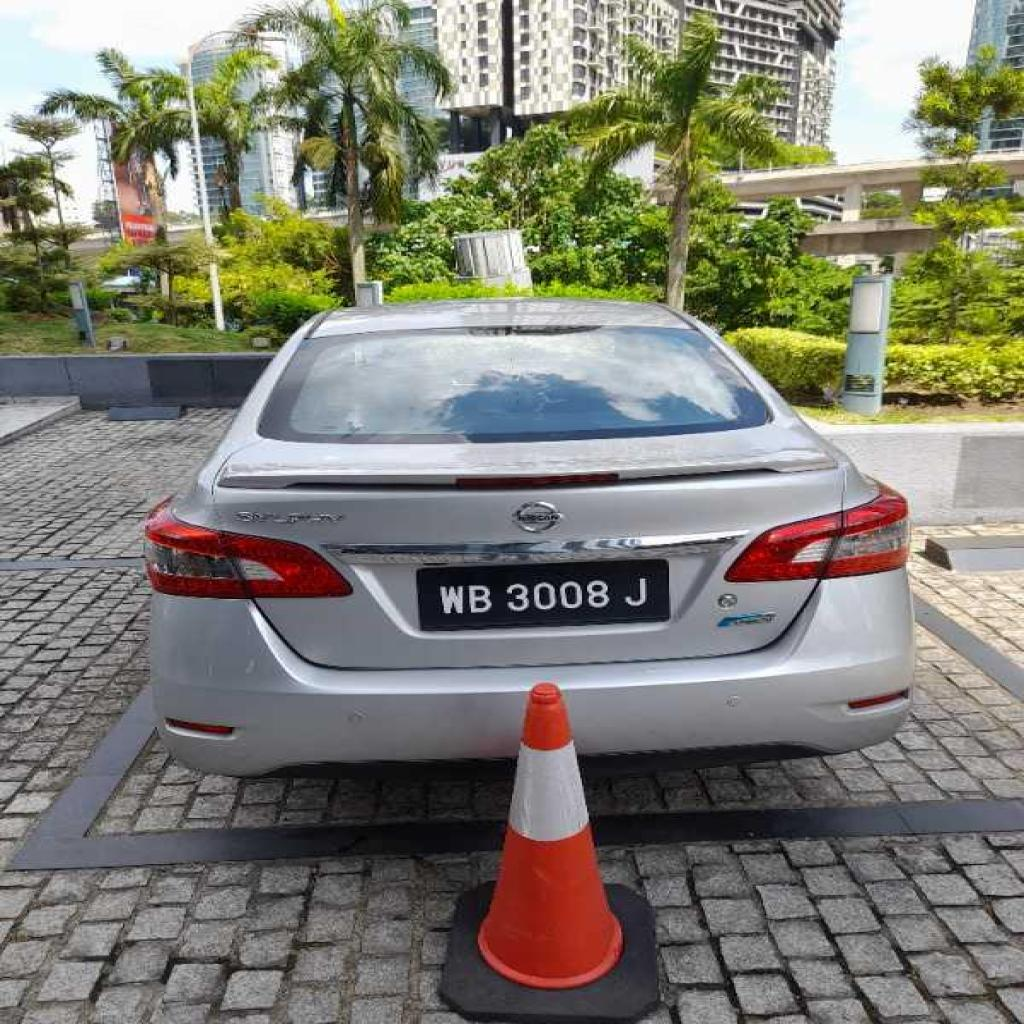car: (145, 298, 910, 774)
car plate: (416, 558, 667, 630)
